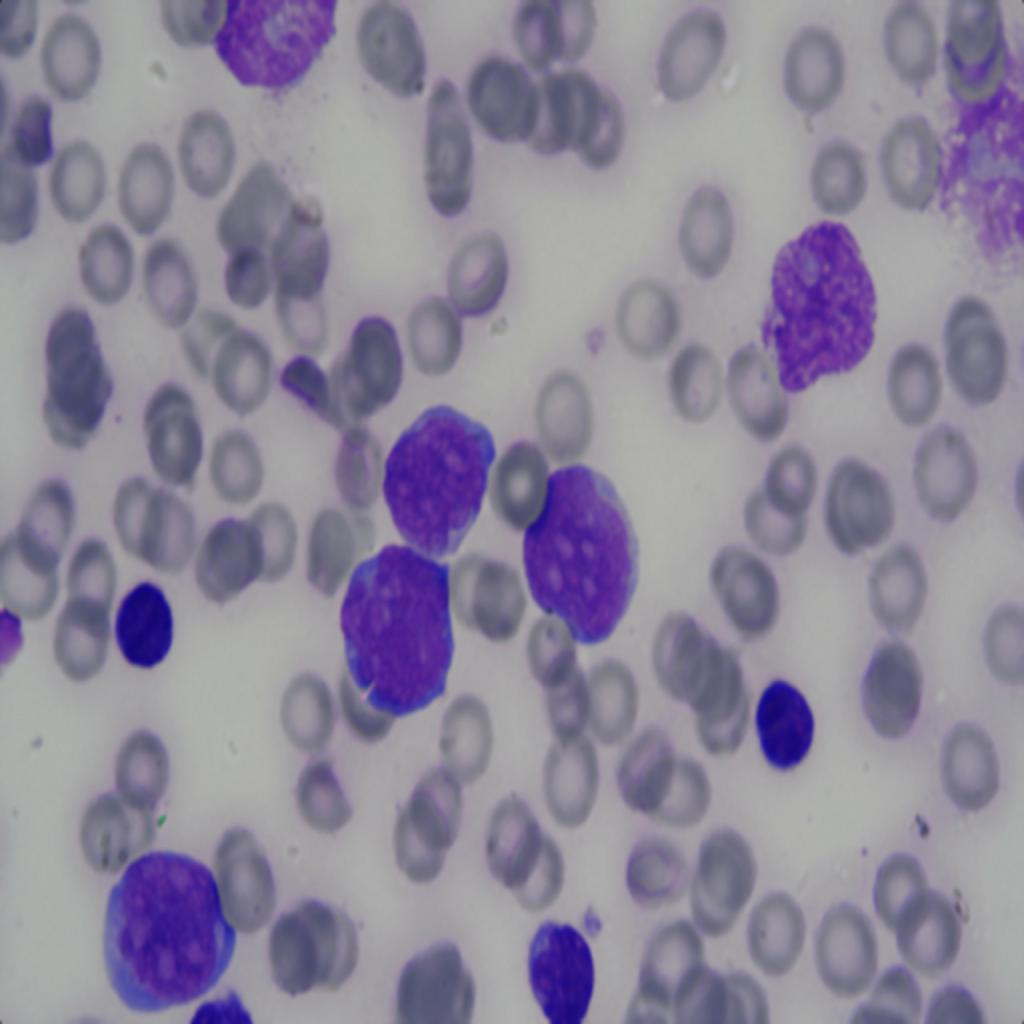Myeoblast: (98, 844, 248, 1013), (521, 460, 653, 650), (764, 210, 886, 408), (332, 538, 461, 724), (378, 392, 497, 571), (94, 566, 183, 687), (734, 666, 818, 788), (516, 909, 599, 1023)
